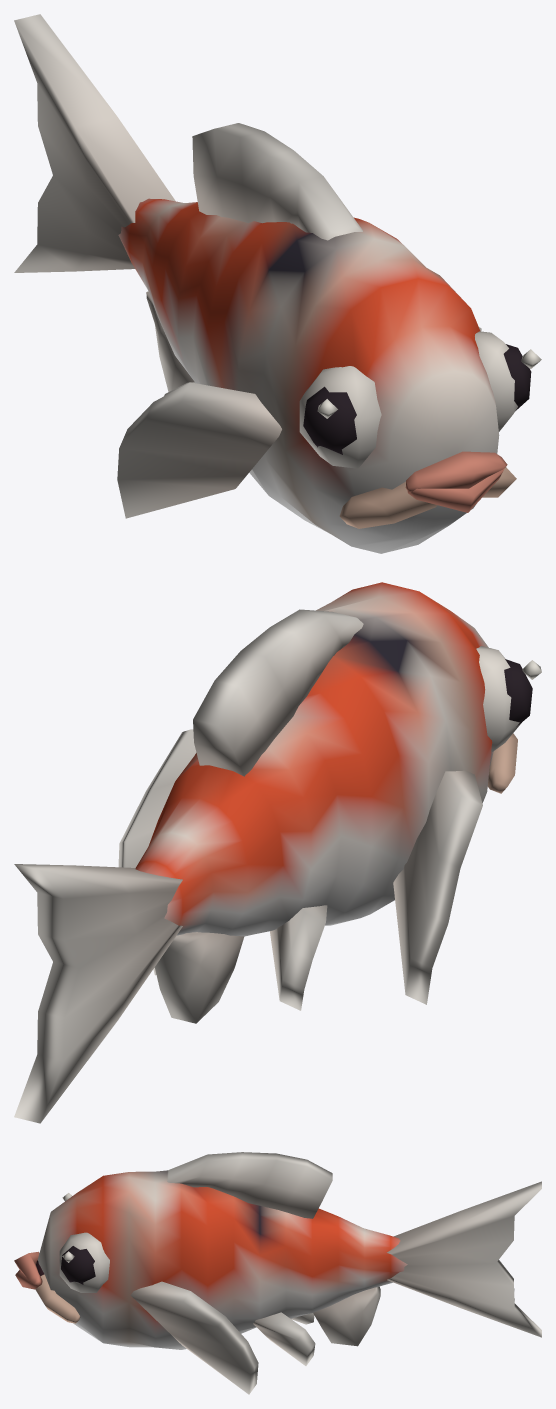
The model's file is prop-fish-koi.glb.
The picture shows the model from 3 angles, top to bottom: view 1: azimuth 30°, elevation 25°; view 2: azimuth 150°, elevation 25°; view 3: azimuth 270°, elevation 25°; orthographic projection. The views are drawn at different scales.
Visible parts, largest first — view 1: body; view 2: body; view 3: body.
Boxes of the visible parts, bbox=[...] form: body: bbox=[14, 14, 541, 553]; body: bbox=[14, 582, 541, 1123]; body: bbox=[14, 1152, 541, 1394].
Size of the model in its own units: 0.219 by 0.2124 by 0.5183.
